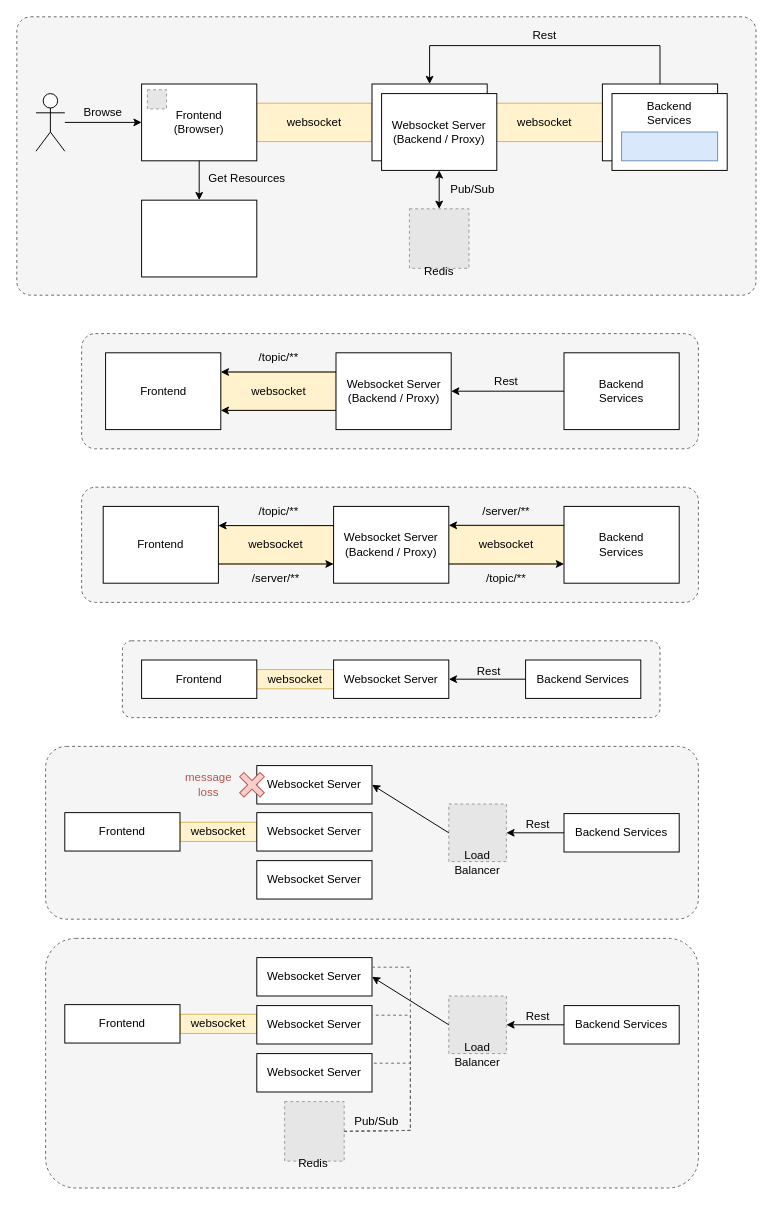
Some shapes in this 773 by 1205 pixel diagram are drawn without their labels. Grey dashed boxes stand in for pictures. Each missing label, with the box of its shape:
Frontend (Web Server): (141, 199, 257, 277)
User: (35, 93, 65, 151)
websocket client library: (621, 131, 718, 161)
